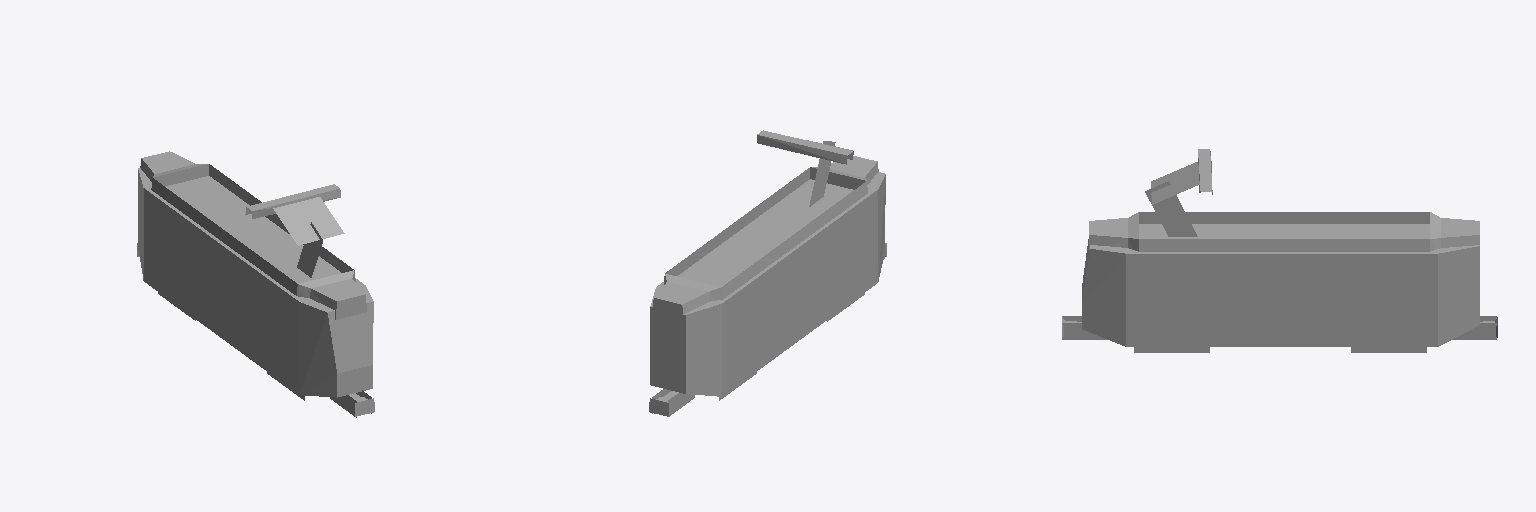
Rendered from tram2000_small.obj.
3 views of the same model, side by side, from view 1: azimuth 30°, elevation 25°; view 2: azimuth 150°, elevation 25°; view 3: azimuth 270°, elevation 25° (orthographic).
Visible parts, largest first — view 1: polymsh4; view 2: polymsh4; view 3: polymsh4.
Part boxes in pixels (x1,y1,x2,y2): polymsh4: (137, 151, 374, 417); polymsh4: (649, 130, 886, 416); polymsh4: (1062, 149, 1497, 352).
Bounding box in the file's own units: 0.459 × 0.8367 × 1.93.